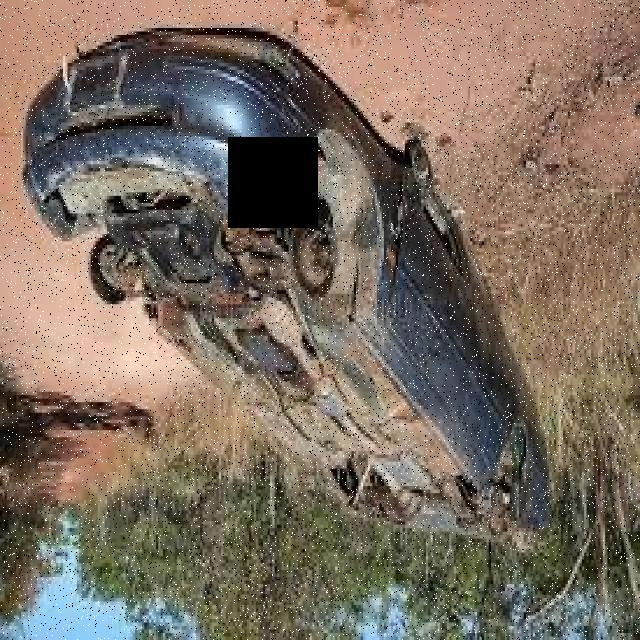severe: (18, 24, 556, 550)
